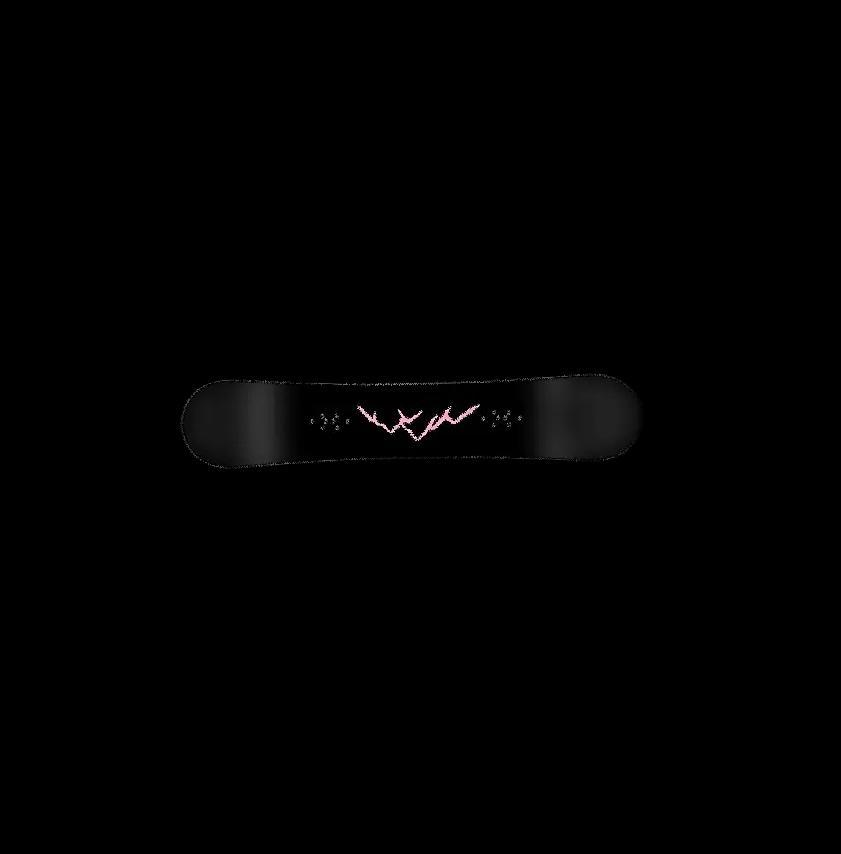Snowboard: (179, 371, 643, 469)
